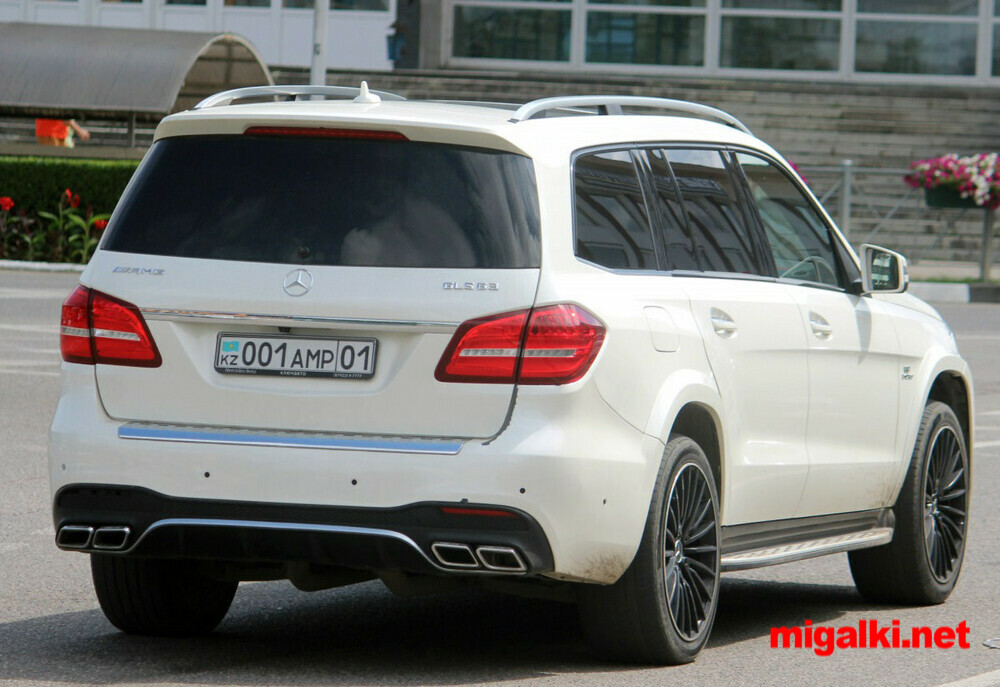license_plate: (217, 330, 380, 379)
